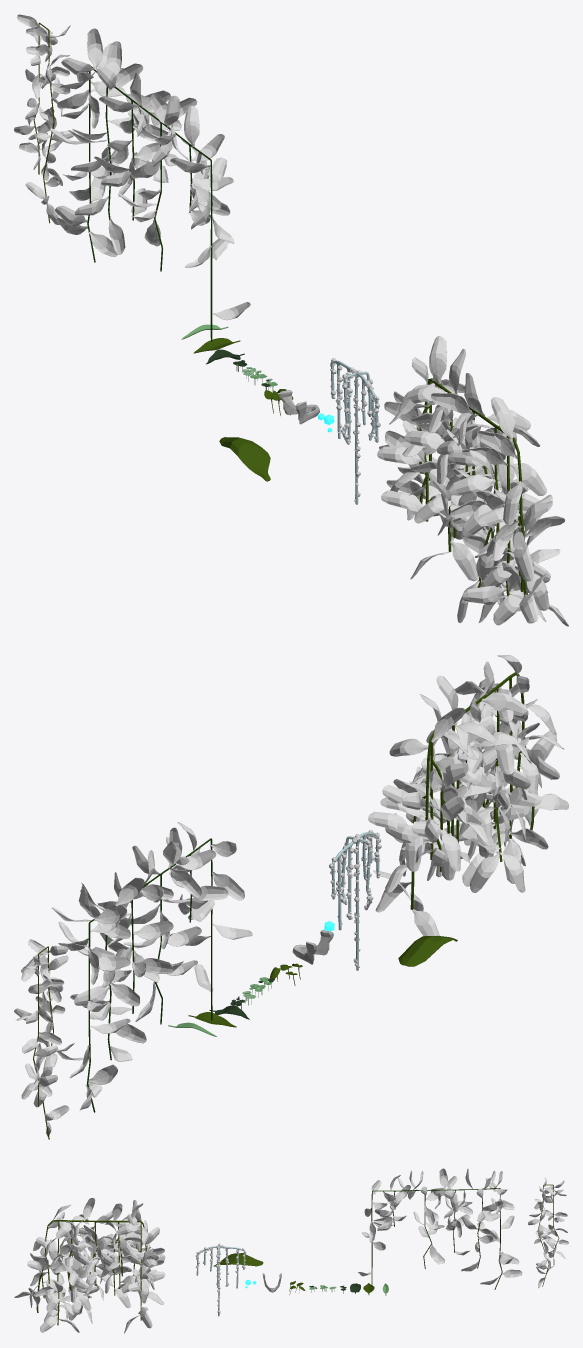
File: FOLIAGE .fbx
3 views of the same model, one above another, from view 1: azimuth 30°, elevation 25°; view 2: azimuth 150°, elevation 25°; view 3: azimuth 270°, elevation 25° (orthographic). The views are drawn at different scales.
Parts seen in each view (by area): view 1: Vert.007, Vert, Vert.009, Plane.002; view 2: Vert, Vert.009, Vert.007, Plane.002, mandiable, Vert|Plane.002|Dupli|55, Vert|Plane.002|Dupli|157; view 3: Vert, Vert.007, Vert.009, Plane.002.
Part boxes in pixels (<box>): Vert.007: <box>87,66,212,341</box>; Vert: <box>419,378,529,623</box>; Vert.009: <box>331,360,378,504</box>; Plane.002: <box>219,437,270,481</box>; Vert: <box>410,672,534,909</box>; Vert.009: <box>331,832,379,970</box>; Vert.007: <box>87,838,212,1112</box>; Plane.002: <box>398,935,457,966</box>; mandiable: <box>292,930,333,964</box>; Vert|Plane.002|Dupli|55: <box>481,692,526,716</box>; Vert|Plane.002|Dupli|157: <box>470,854,499,892</box>; Vert: <box>36,1220,146,1325</box>; Vert.007: <box>371,1188,502,1289</box>; Vert.009: <box>196,1245,245,1316</box>; Plane.002: <box>213,1253,263,1266</box>.
Size of the model in its own units: 2900 by 5187 by 16425.
